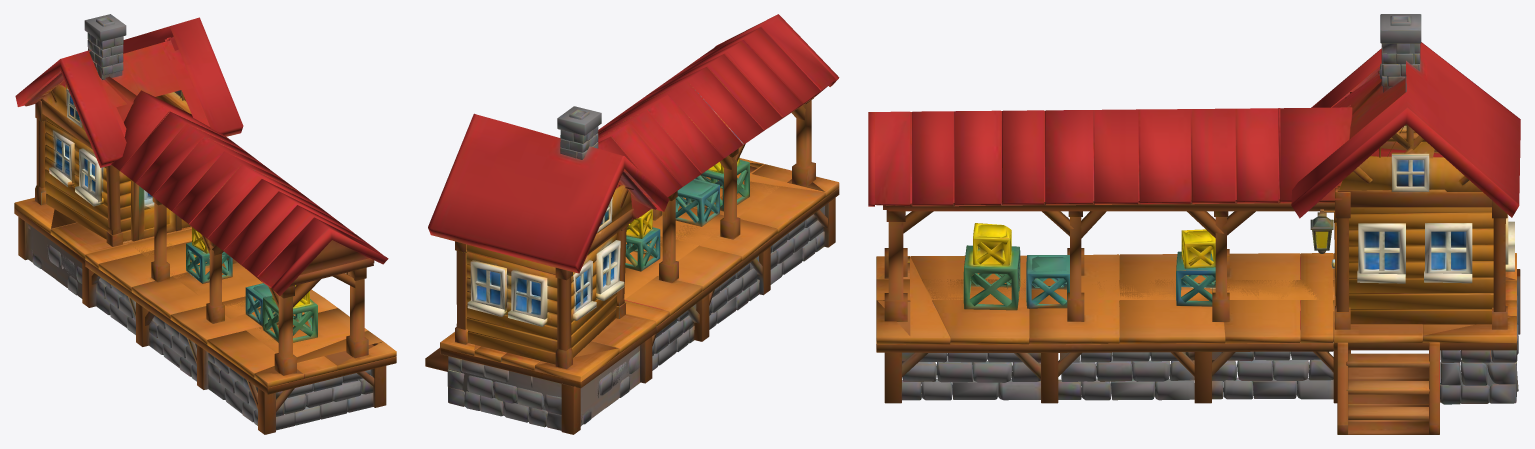
Rendered from lasteplassen.glb.
The picture shows the model from 3 angles, left to right: view 1: azimuth 30°, elevation 25°; view 2: azimuth 150°, elevation 25°; view 3: azimuth 270°, elevation 25°; orthographic projection. The views are drawn at different scales.
Parts seen in each view (by area): view 1: tripo_node_e3db58b9-c15c-4921-ade7-6c88f783f322; view 2: tripo_node_e3db58b9-c15c-4921-ade7-6c88f783f322; view 3: tripo_node_e3db58b9-c15c-4921-ade7-6c88f783f322.
Part boxes in pixels (<box>): tripo_node_e3db58b9-c15c-4921-ade7-6c88f783f322: <box>14,14,396,434</box>; tripo_node_e3db58b9-c15c-4921-ade7-6c88f783f322: <box>425,14,839,434</box>; tripo_node_e3db58b9-c15c-4921-ade7-6c88f783f322: <box>868,14,1520,434</box>.
Size of the model in its own units: 0.4028 by 0.5659 by 0.9995.
Materials: 1 (1 with a texture image).
